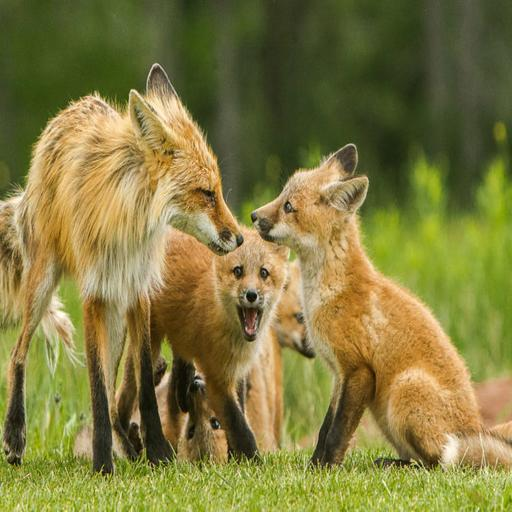Fox: (3, 60, 244, 475), (237, 138, 509, 480), (92, 190, 283, 468), (183, 239, 340, 462)
